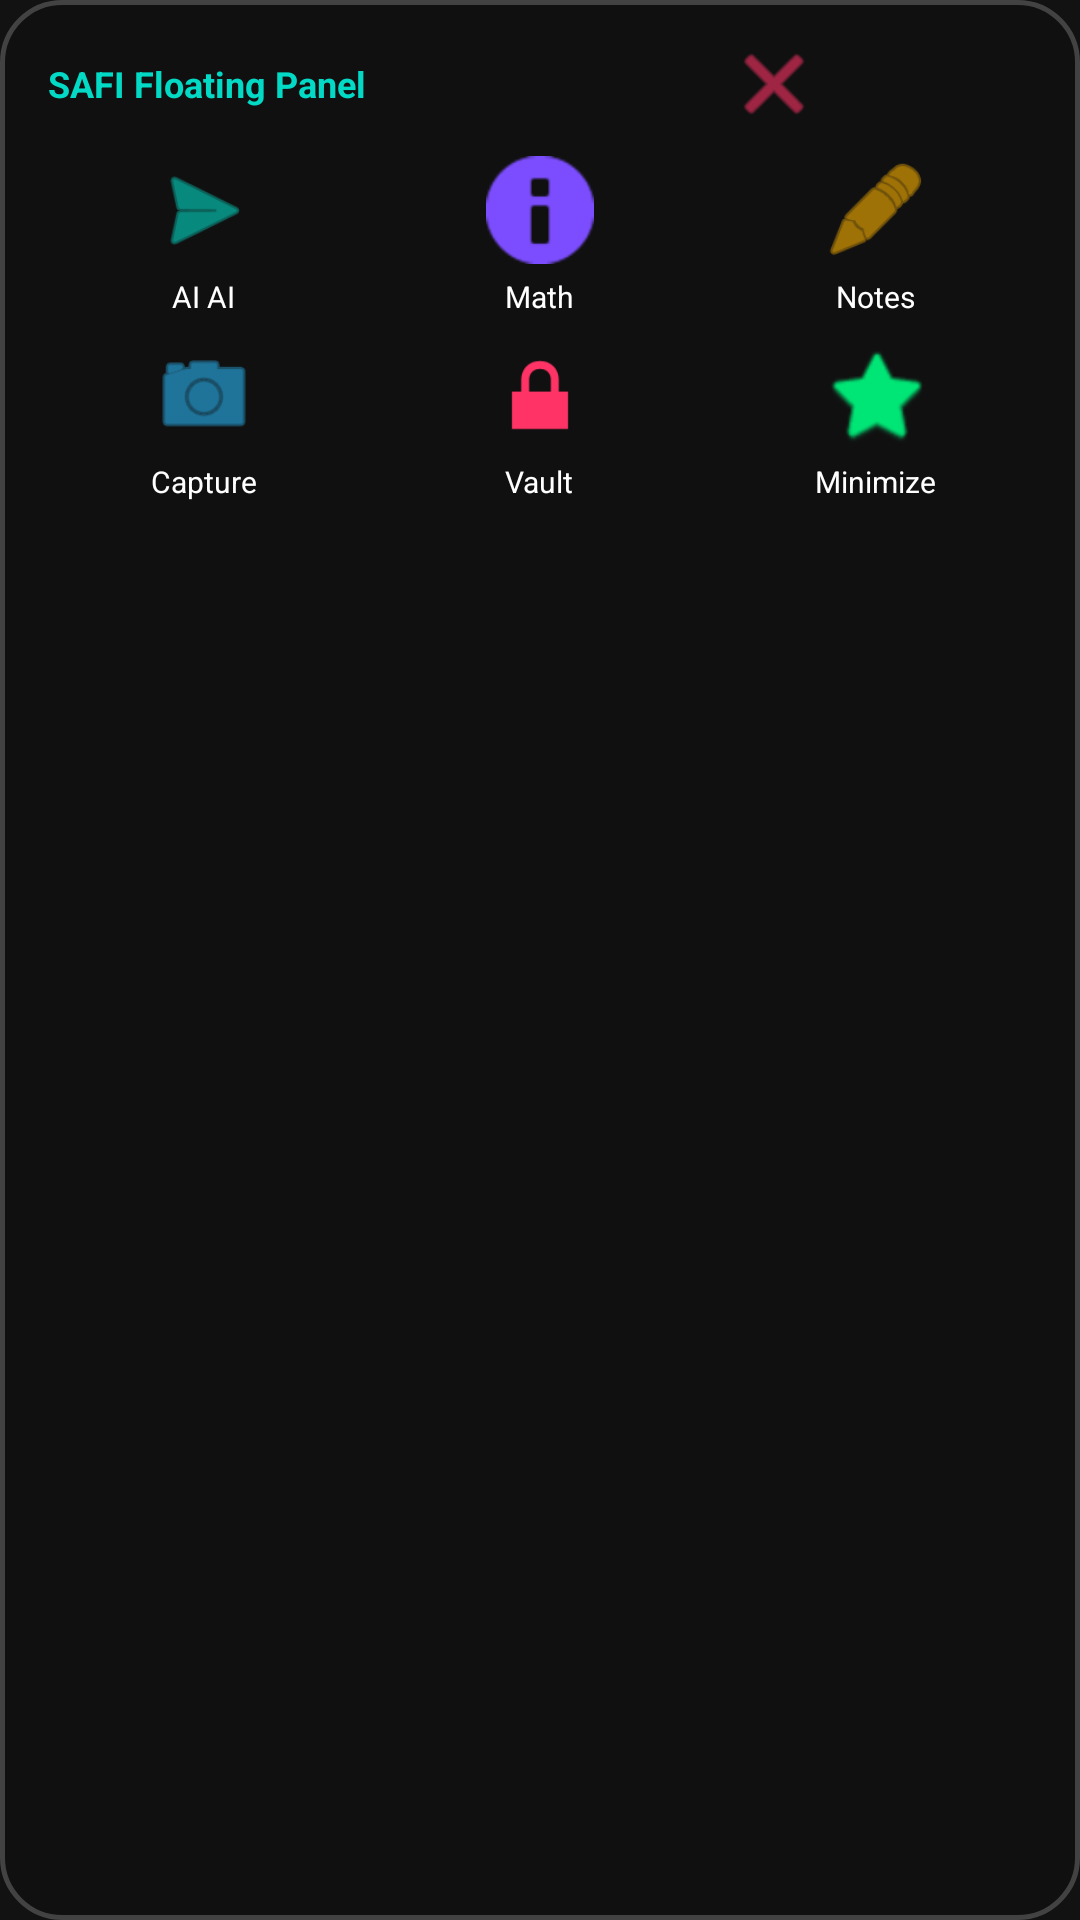

Icons on this 1080w x 1920h Android screen, each with the point to tap as (x,y):
camera: (204,393)
Close Menu: (774,84)
edit: (875,209)
info: (540,210)
lock: (540,395)
send: (205,210)
star: (877,396)
